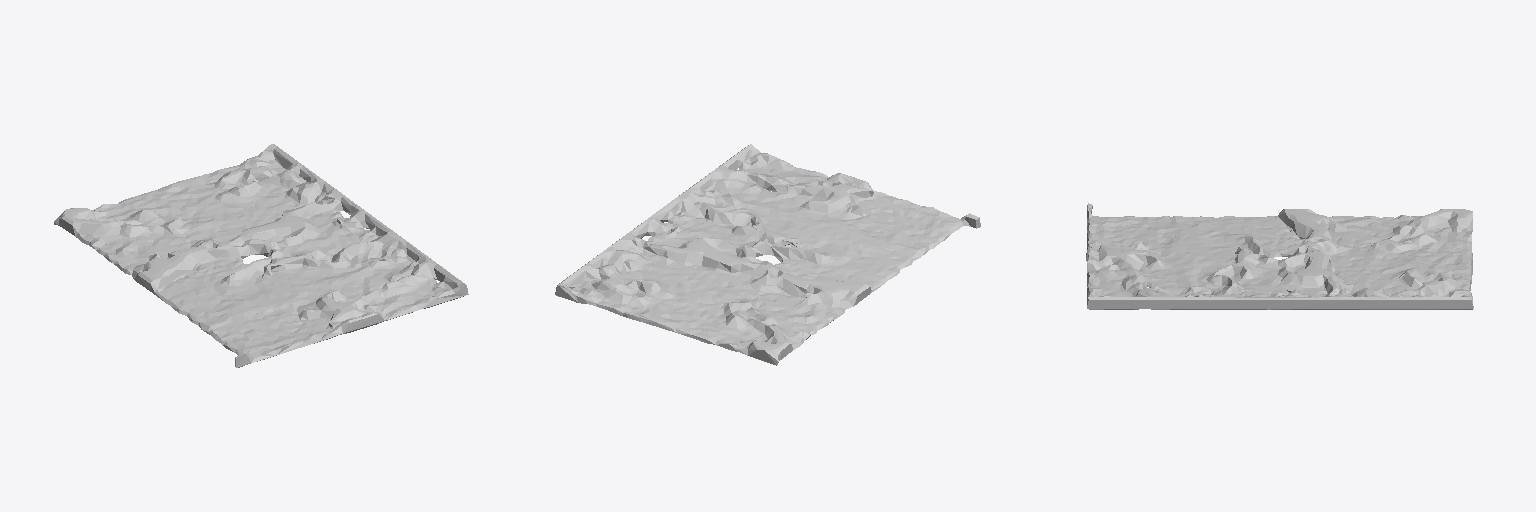
3 renders of one model, left to right at view 1: azimuth 30°, elevation 25°; view 2: azimuth 150°, elevation 25°; view 3: azimuth 270°, elevation 25°, orthographic.
Parts seen in each view (by area): view 1: Liquid_Domain; view 2: Liquid_Domain; view 3: Liquid_Domain.
Part boxes in pixels (left/top/right/bottom): Liquid_Domain: left=54, top=144, right=468, bottom=367; Liquid_Domain: left=555, top=144, right=980, bottom=365; Liquid_Domain: left=1086, top=203, right=1473, bottom=309.
Bounding box in the file's own units: 116 × 13.64 × 168.